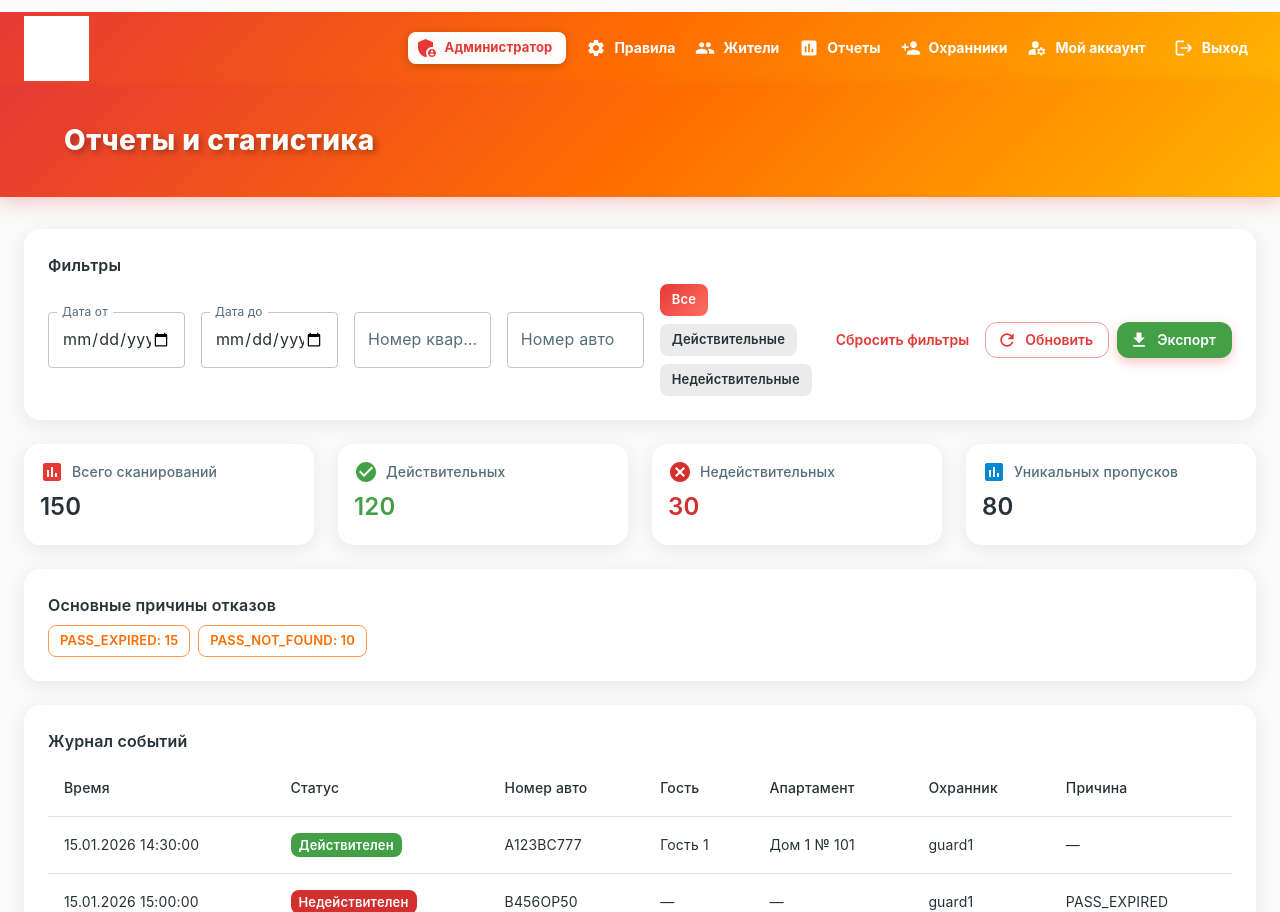
Test case: AdminReportsPage › reset filters button clears all filter fields
Step 1. Type "2026-01-01T00:00" into the field labelled "Дата от" → coordinates (116, 340), box [48, 312, 185, 368]
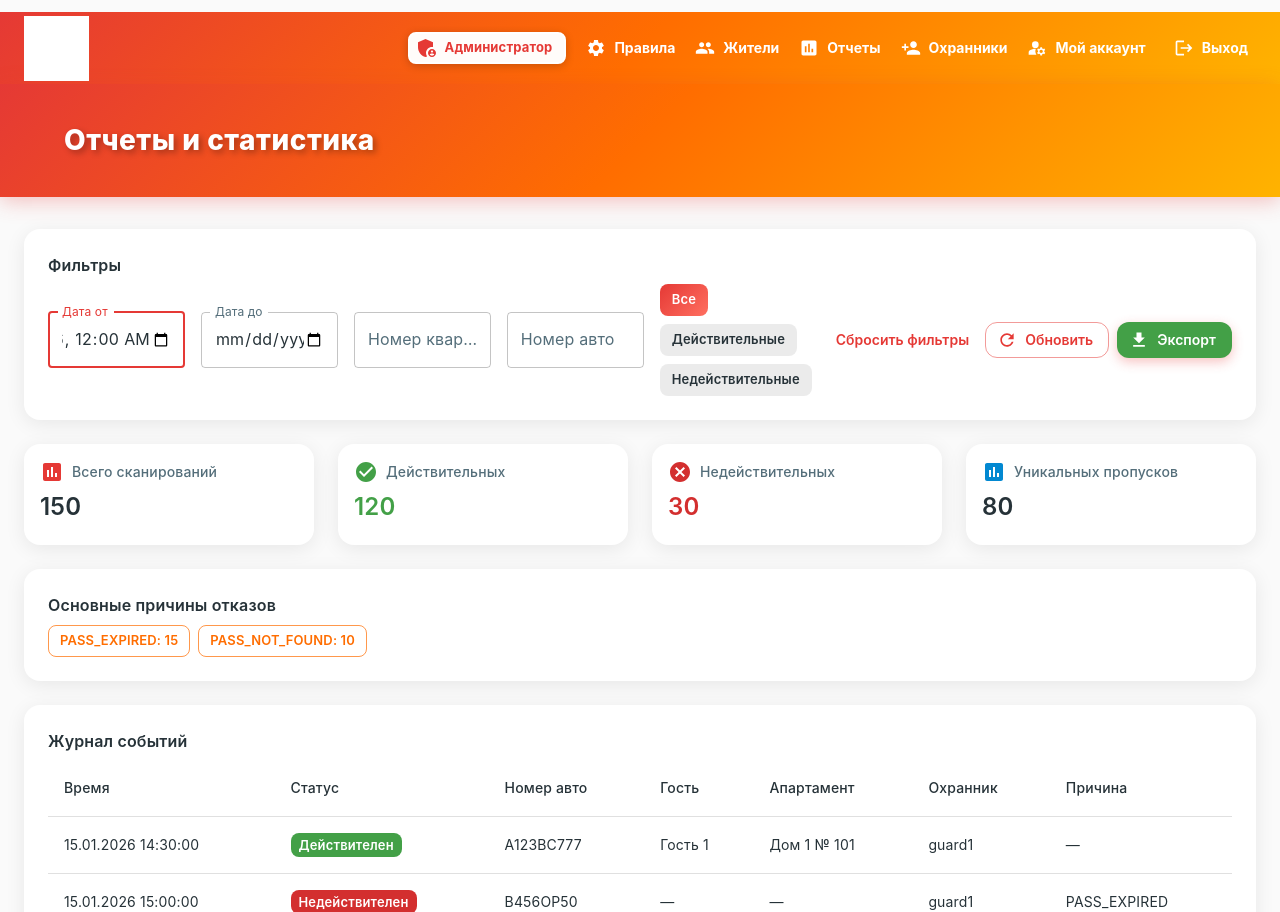
Step 2. Type "2026-01-31T23:59" into the field labelled "Дата до" → coordinates (269, 340), box [201, 312, 338, 368]
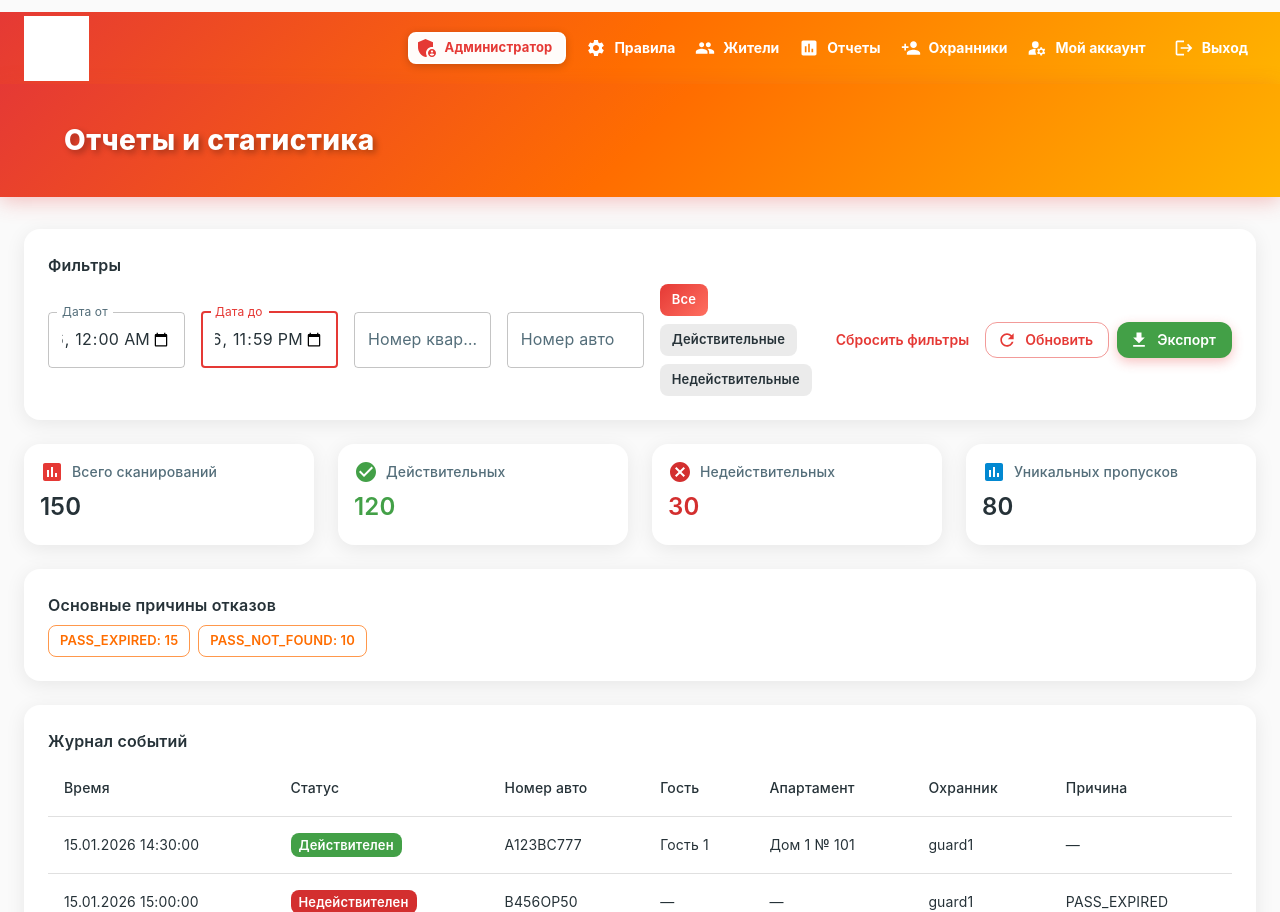
Step 3. Type "101" into the field labelled "Номер квартиры" → coordinates (422, 340), box [354, 312, 491, 368]
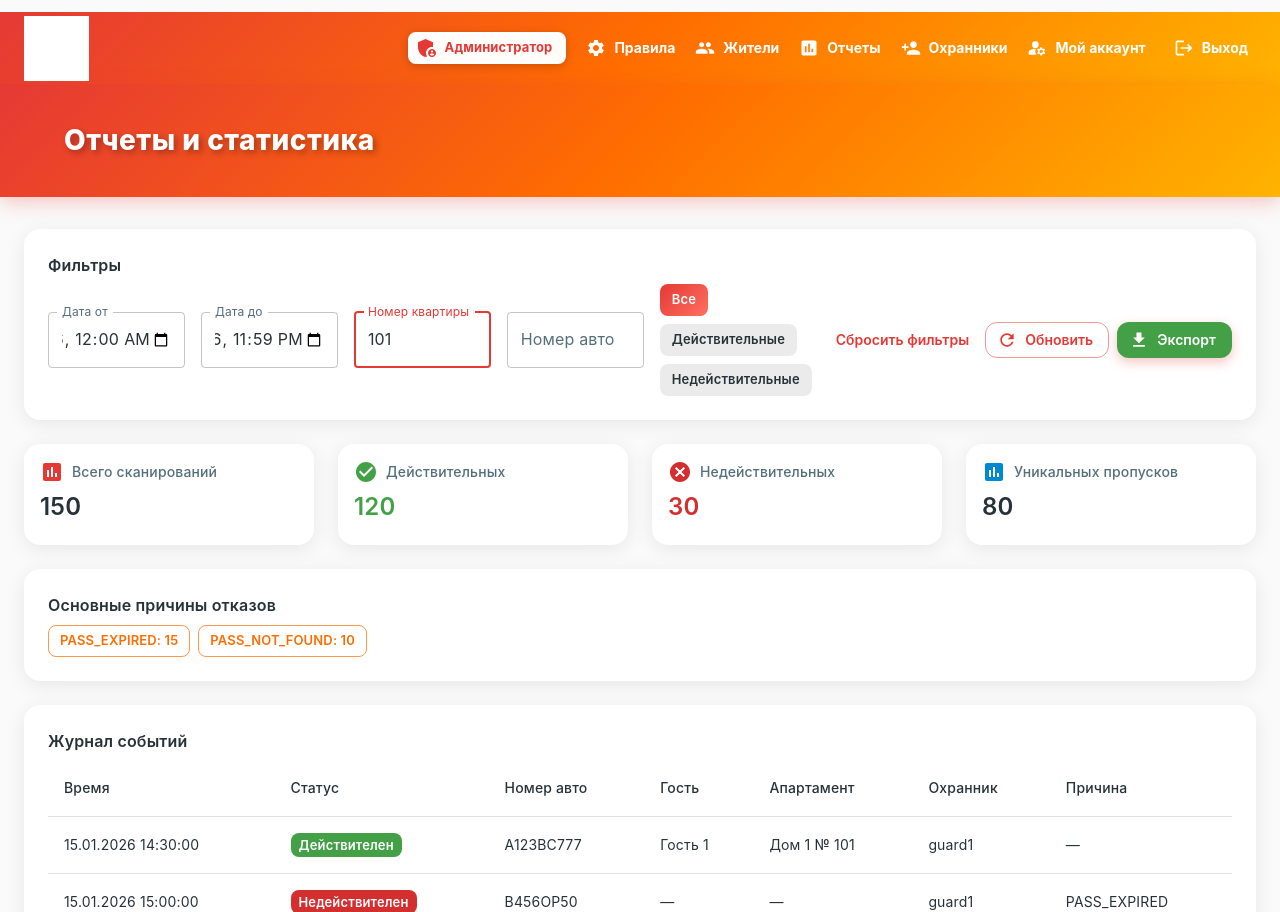
Step 4. Type "А123ВС777" into the field labelled "Номер авто" → coordinates (575, 340), box [507, 312, 644, 368]
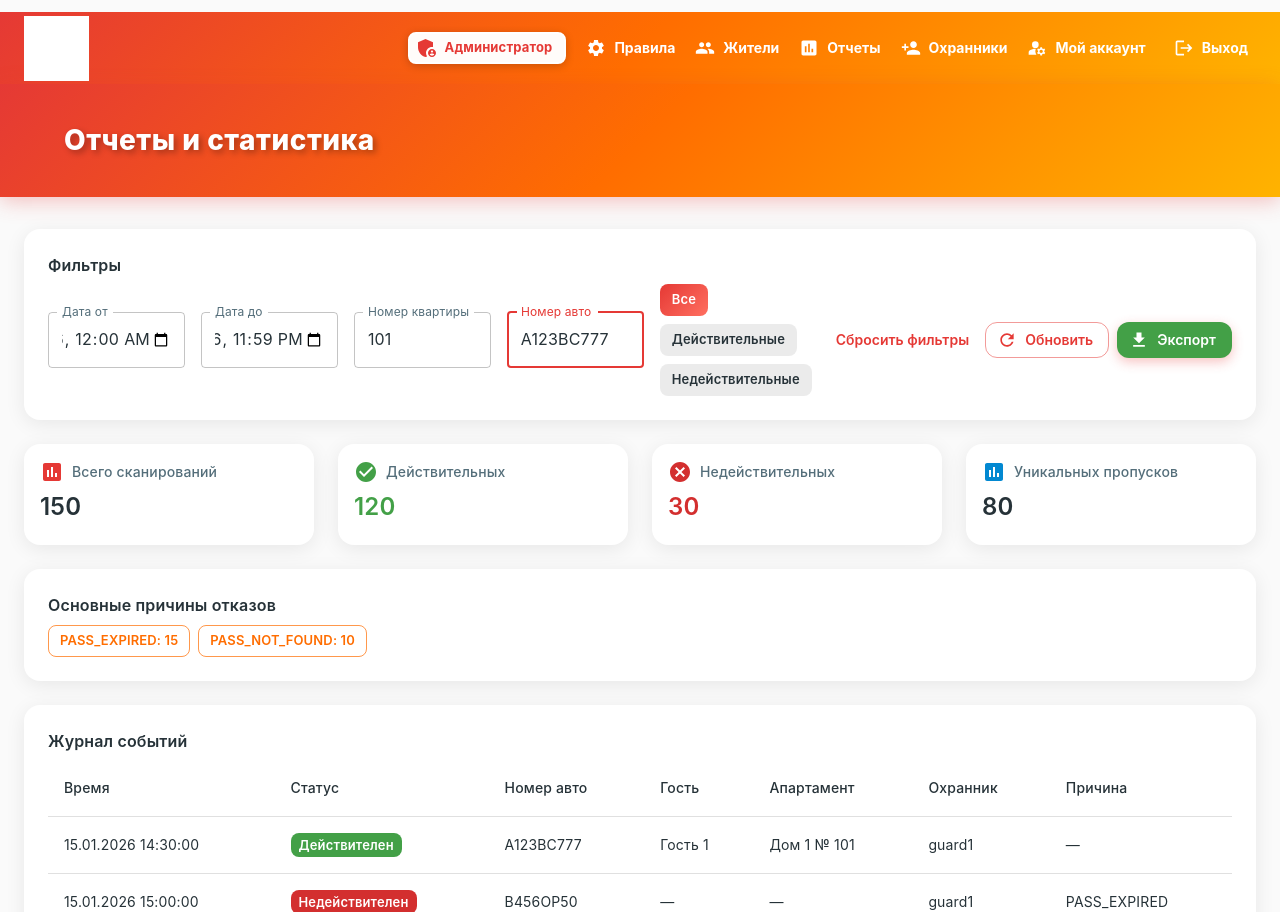
Step 5. Click the button "Действительные" → coordinates (728, 340), box [660, 324, 797, 356]
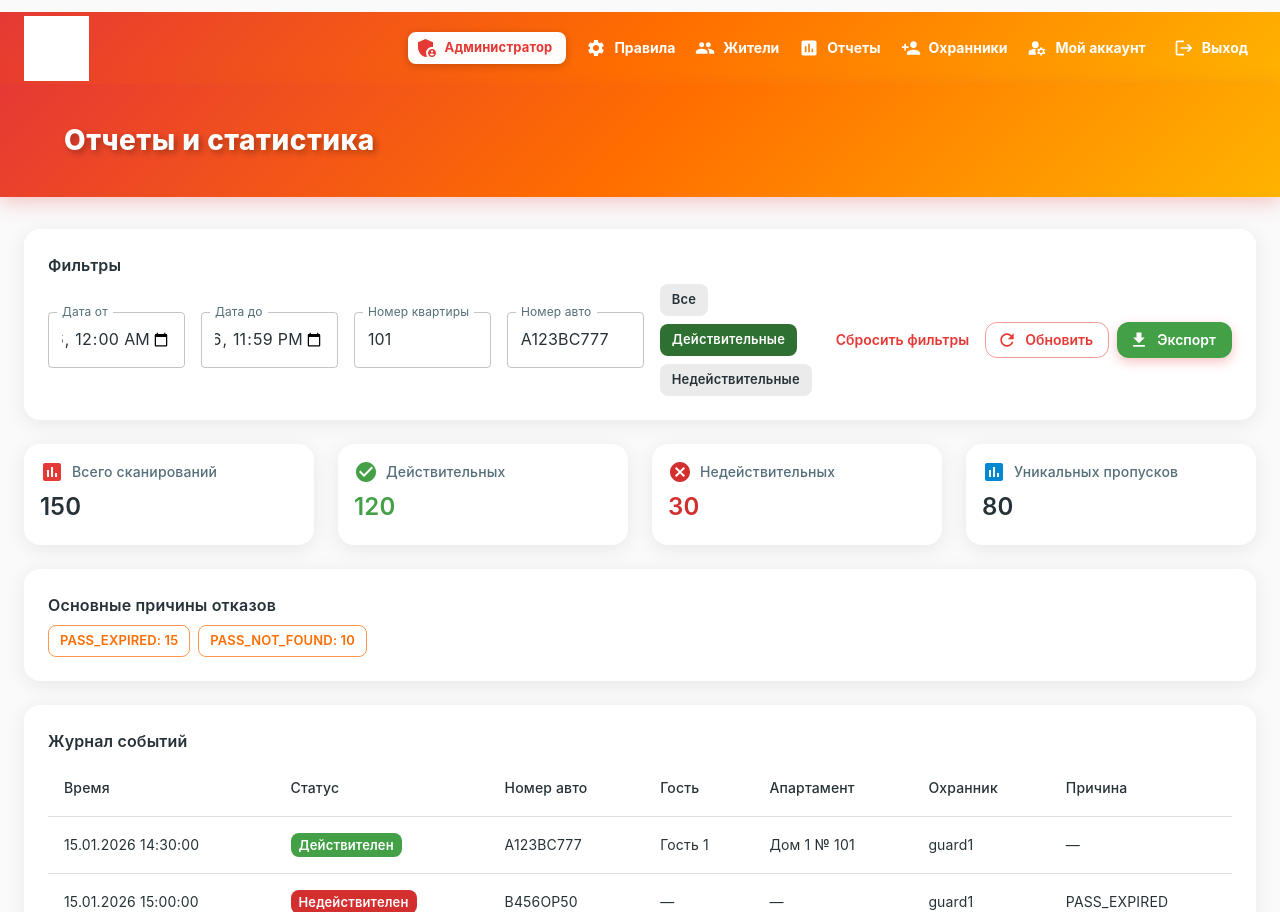
Step 6. Click the button "Сбросить фильтры" → coordinates (902, 340), box [828, 322, 977, 358]
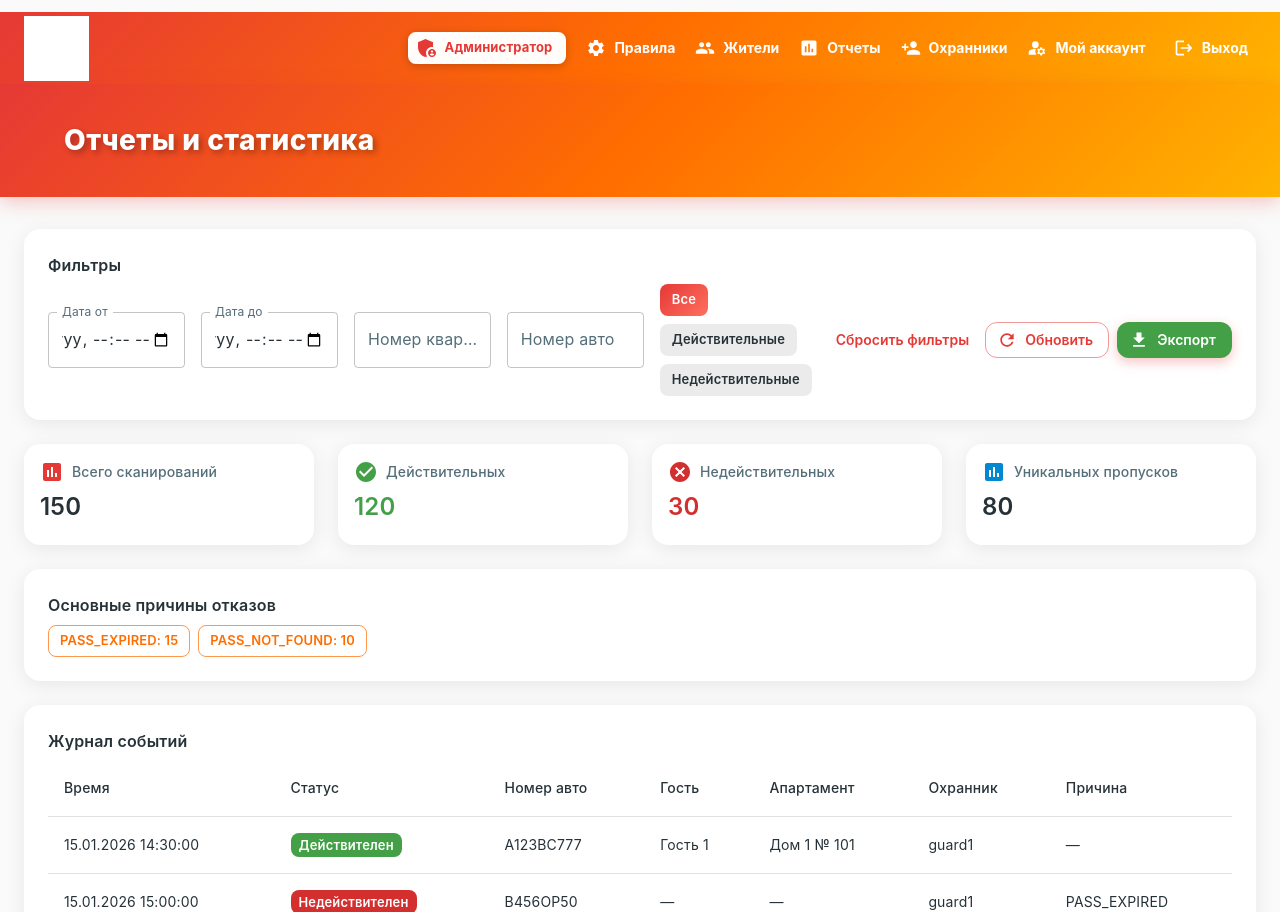
Now the field labelled "Дата от" is empty, box [48, 312, 185, 368]
Now the field labelled "Дата до" is empty, box [201, 312, 338, 368]
Now the field labelled "Номер квартиры" is empty, box [354, 312, 491, 368]
